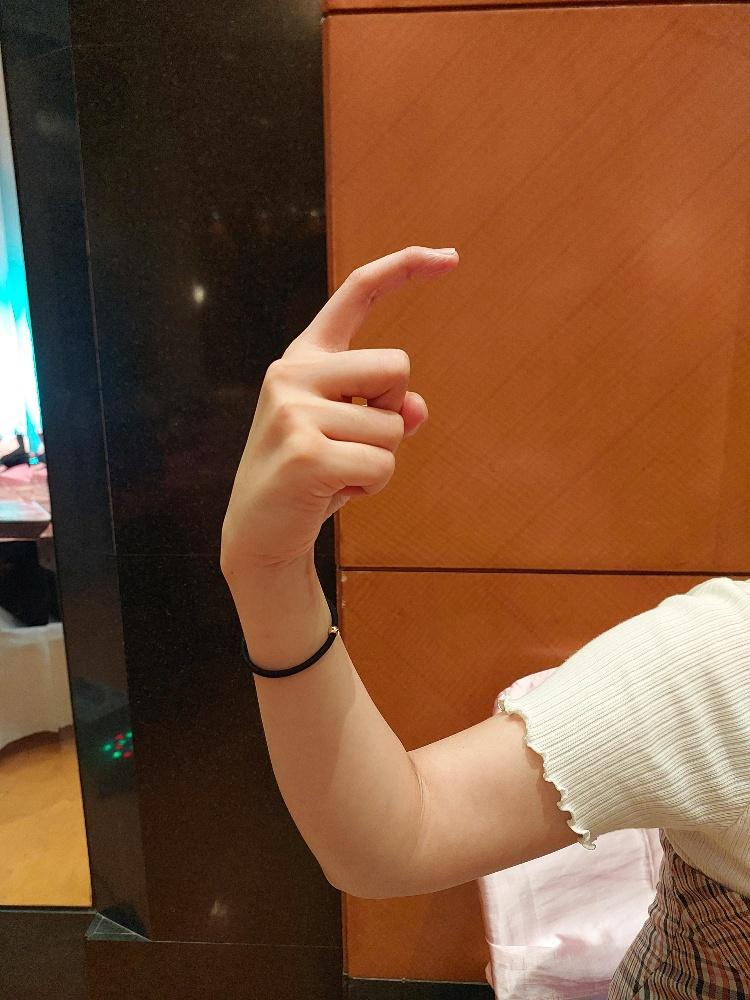x: (219, 240, 463, 568)
